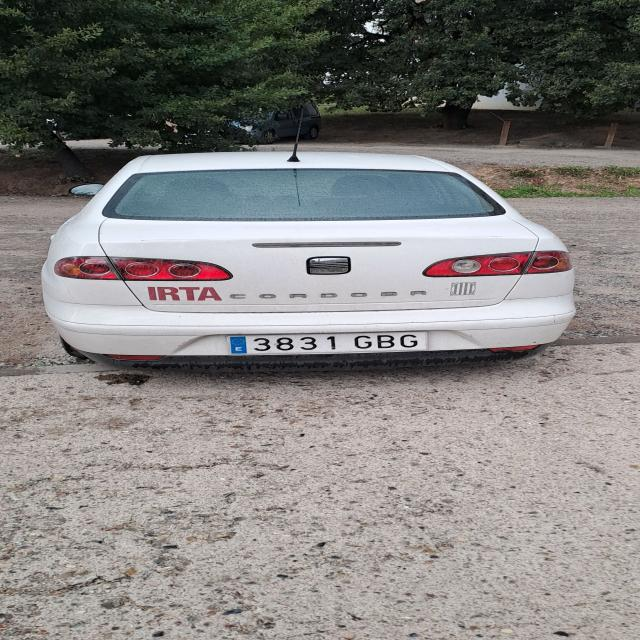license_plate-34Td: (225, 331, 429, 355)
